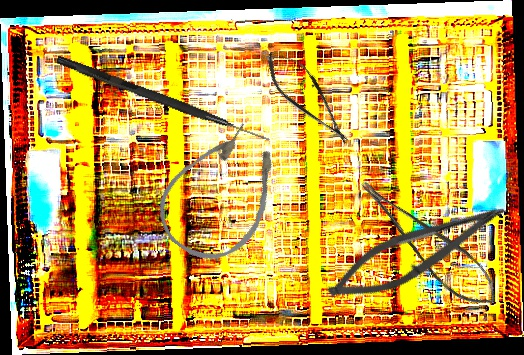Cannula: (143, 108, 302, 278)
Hook Surgical: (54, 55, 273, 144)
Micro Scissor: (318, 181, 516, 319), (356, 158, 507, 323), (256, 41, 361, 154)
